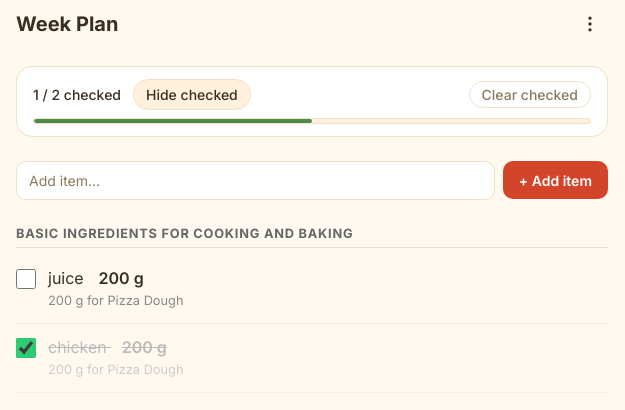
Test: ShoppingListView › "Hide checked" filters checked items out of the rendered list without mutating the store
Click the button with test id "hide-checked-toggle" at (192, 94), box [133, 79, 251, 110]
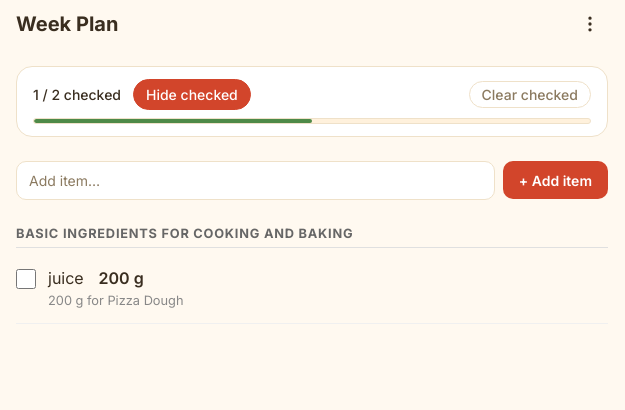
Expected: the text "juice" is shown, [48, 268, 88, 288]
Expected: the text "chicken" is gone
